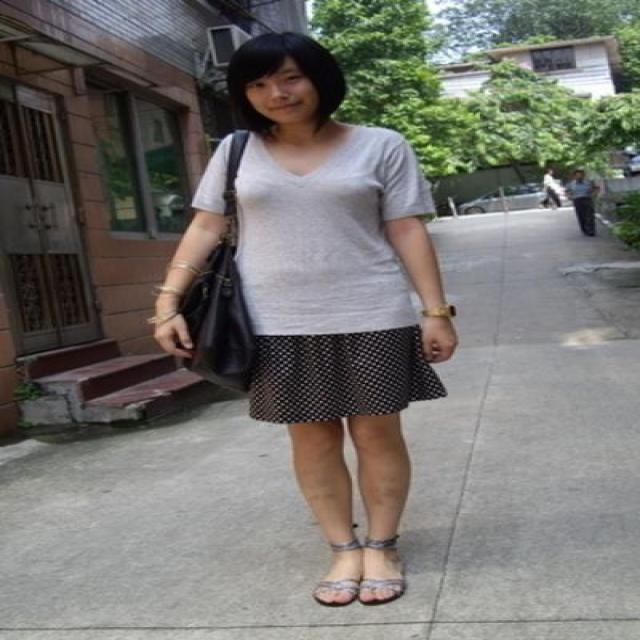bag: (172, 129, 274, 406)
shirt: (192, 124, 437, 337)
shoe: (315, 556, 424, 607)
skirt: (232, 324, 440, 422)
